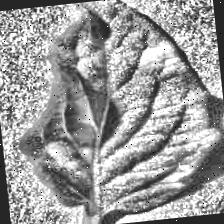leaf mold: (5, 0, 224, 219)
